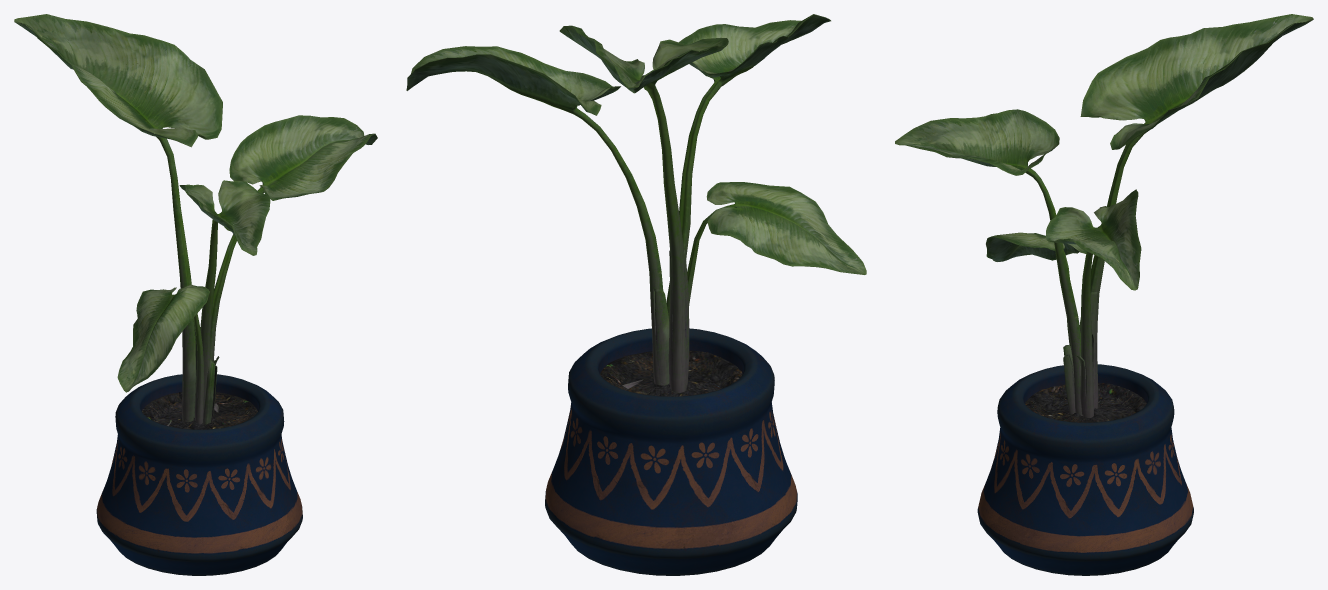
Rendered from plant.glb.
3 renders of one model, left to right at view 1: azimuth 30°, elevation 25°; view 2: azimuth 150°, elevation 25°; view 3: azimuth 270°, elevation 25°, orthographic. The views are drawn at different scales.
Parts seen in each view (by area): view 1: Object_3, Object_2; view 2: Object_2, Object_3; view 3: Object_2, Object_3.
Part boxes in pixels (left/top/right/bottom): Object_3: left=14, top=14, right=377, bottom=425; Object_2: left=96, top=374, right=302, bottom=575; Object_2: left=545, top=328, right=797, bottom=575; Object_3: left=406, top=14, right=866, bottom=392; Object_2: left=977, top=364, right=1193, bottom=575; Object_3: left=895, top=14, right=1313, bottom=422.
Bounding box in the file's own units: 0.3782 × 0.5431 × 0.4209.
Materials: 2 (2 with a texture image).
